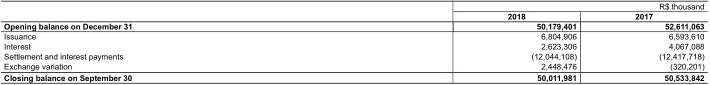column: (3, 1, 134, 85), (531, 1, 578, 85), (659, 1, 705, 85), (507, 1, 526, 85), (635, 1, 654, 85)
row: (1, 12, 710, 21), (1, 22, 710, 31), (1, 52, 710, 61), (1, 2, 709, 11), (1, 42, 709, 51), (1, 62, 709, 71), (1, 74, 710, 82), (1, 33, 709, 41)
